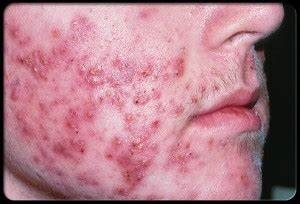Acne: (85, 64, 104, 88), (129, 91, 149, 111), (131, 134, 149, 154), (29, 64, 48, 81), (171, 66, 184, 82)
